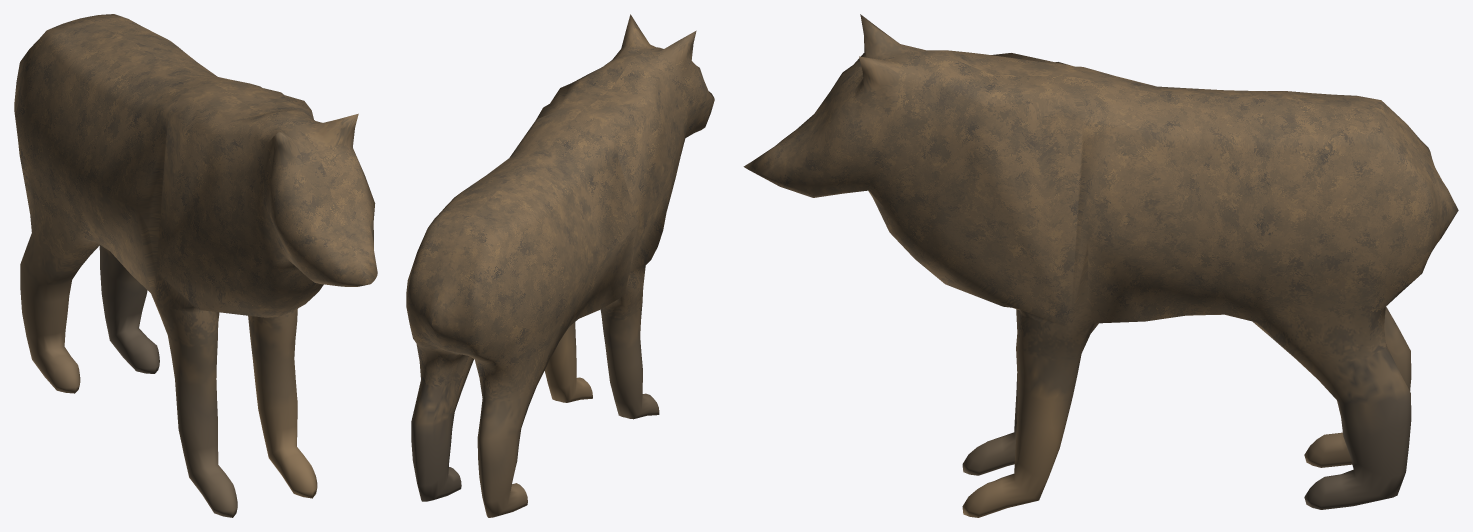
File: piesblend_000002.obj
3 renders of one model, left to right at view 1: azimuth 30°, elevation 25°; view 2: azimuth 150°, elevation 25°; view 3: azimuth 270°, elevation 25°, orthographic. The views are drawn at different scales.
Visible parts, largest first — view 1: Cube; view 2: Cube; view 3: Cube.
Part boxes in pixels (box(x1,y1,x2,y2)): Cube: box(14, 14, 377, 517); Cube: box(406, 14, 714, 517); Cube: box(743, 14, 1458, 517).
Bounding box in the file's own units: 2.55 × 6.33 × 8.98.
Materials: 1 (1 with a texture image).
